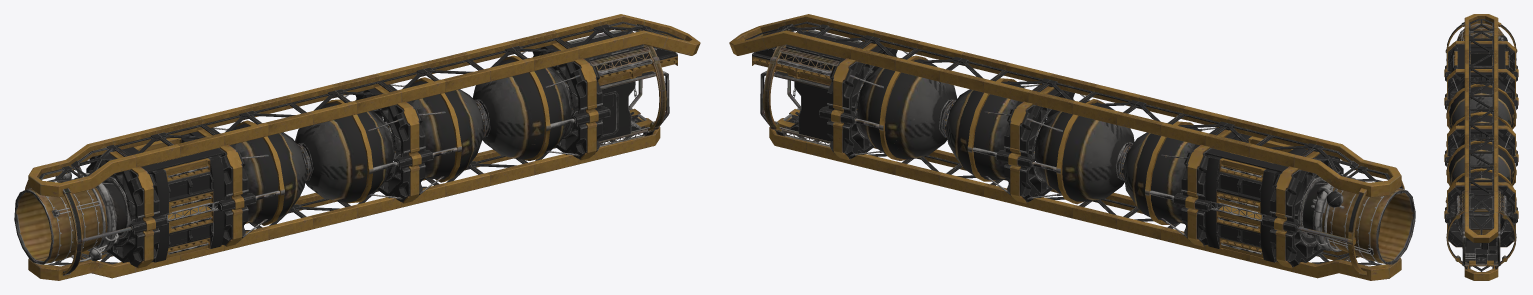
File: nilak.glb
3 renders of one model, left to right at view 1: azimuth 30°, elevation 25°; view 2: azimuth 150°, elevation 25°; view 3: azimuth 270°, elevation 25°, orthographic. The views are drawn at different scales.
Visible parts, largest first — view 1: hull, pod; view 2: hull, pod; view 3: hull, pod.
Part boxes in pixels (x1,y1,x2,y2): hull: (14, 14, 700, 280); pod: (501, 51, 579, 160); hull: (729, 14, 1415, 280); pod: (849, 51, 933, 160); hull: (1444, 14, 1518, 280); pod: (1445, 167, 1516, 223).
Size of the model in its own units: 42 by 7.03 by 6.26.
22 materials, 22 textured.
